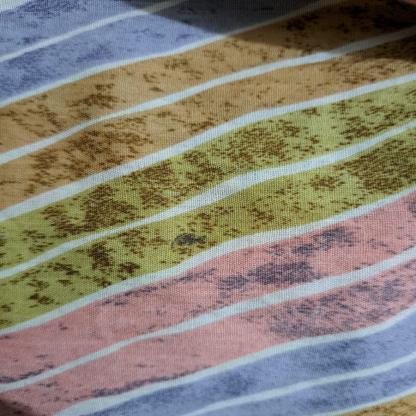spot: (167, 231, 213, 247)
